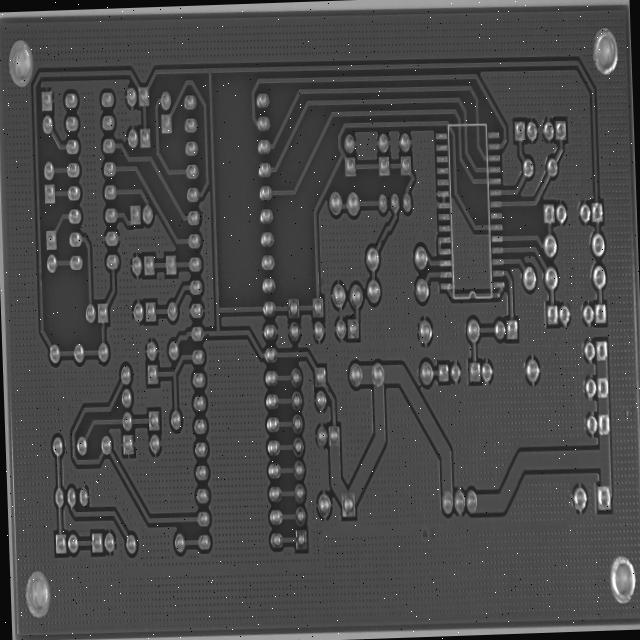mouse_bite: (358, 142, 368, 162), (304, 325, 314, 341), (175, 257, 185, 272)
